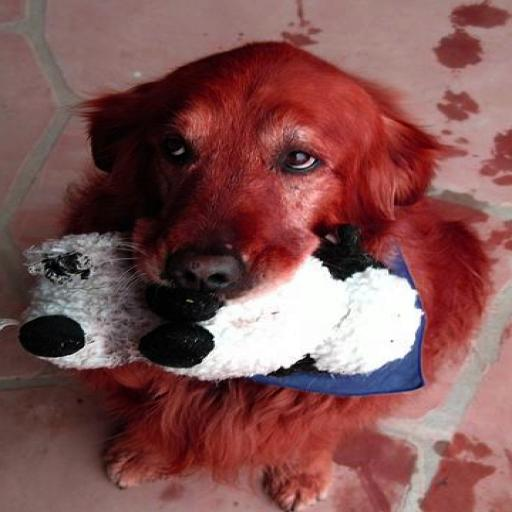dog_face: (88, 52, 413, 286)
